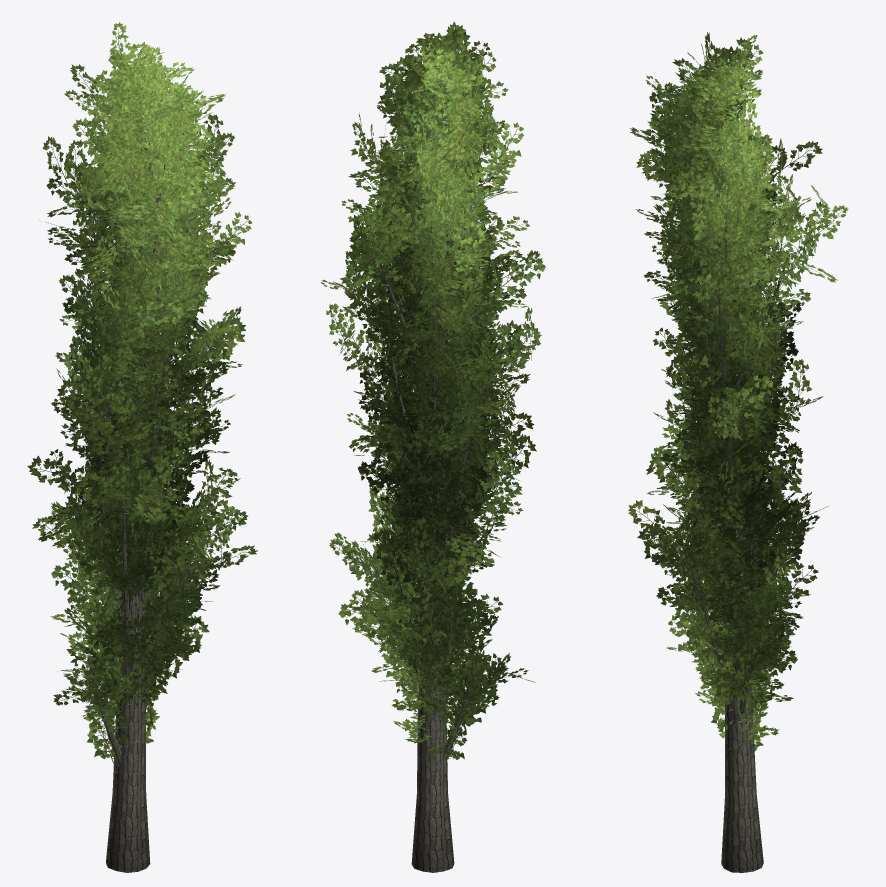
The model's file is poplar.glb.
3 views of the same model, side by side, from view 1: azimuth 30°, elevation 25°; view 2: azimuth 150°, elevation 25°; view 3: azimuth 270°, elevation 25° (orthographic).
Parts seen in each view (by area): view 1: poplar; view 2: poplar; view 3: poplar.
Part boxes in pixels (x1,y1,x2,y2): poplar: [27, 22, 257, 872]; poplar: [320, 21, 545, 872]; poplar: [628, 32, 848, 872].
Bounding box in the file's own units: 7.42 × 24.02 × 6.97.
Materials: 2 (2 with a texture image).
